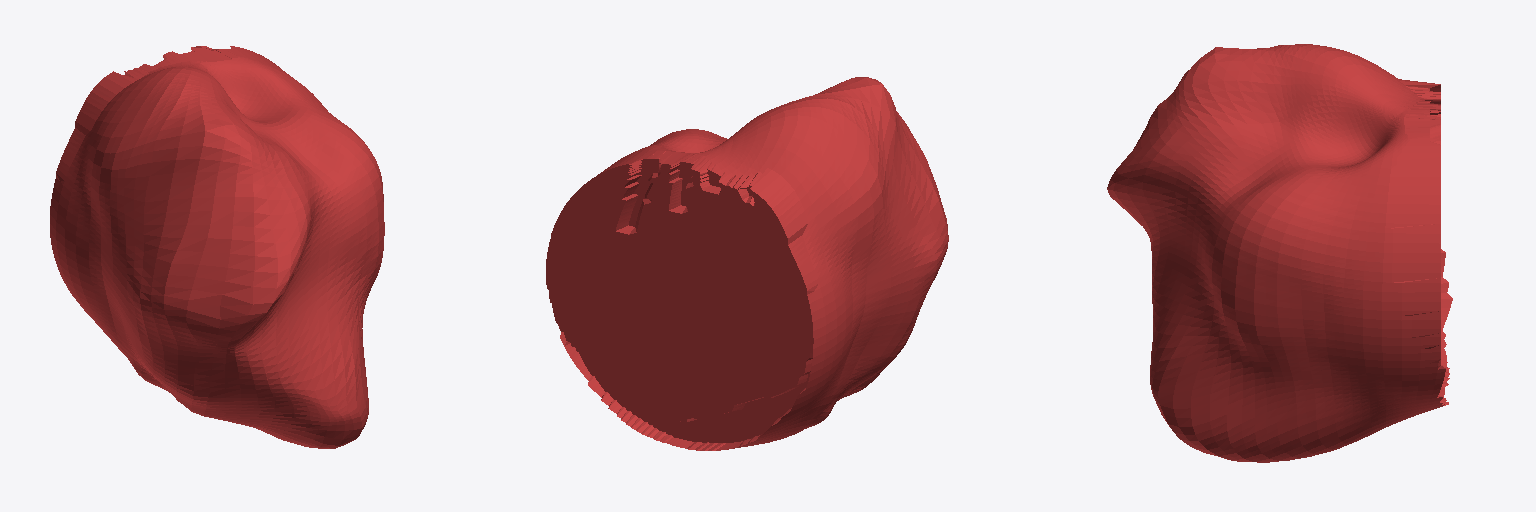
The model's file is heart.obj.
The picture shows the model from 3 angles: view 1: azimuth 30°, elevation 25°; view 2: azimuth 150°, elevation 25°; view 3: azimuth 270°, elevation 25°; orthographic projection.
Size of the model in its own units: 2.28 by 2.74 by 2.4.